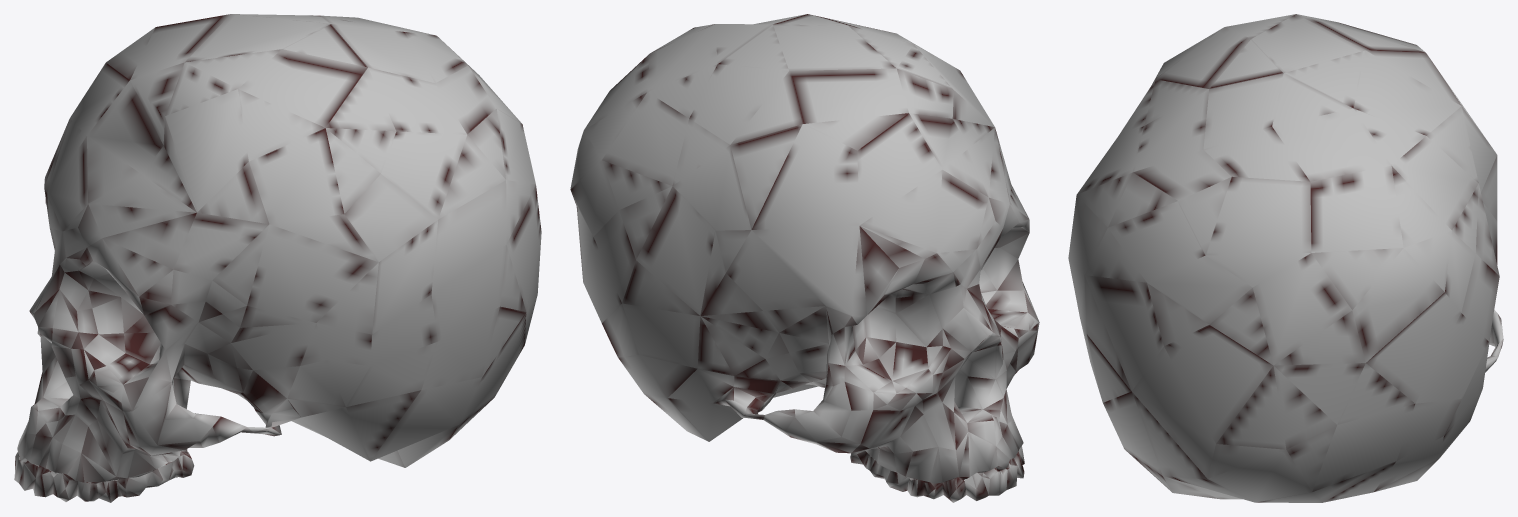
File: Skeleton_head.fbx
3 views of the same model, side by side, from view 1: azimuth 30°, elevation 25°; view 2: azimuth 150°, elevation 25°; view 3: azimuth 270°, elevation 25° (orthographic). The views are drawn at different scales.
Parts seen in each view (by area): view 1: Skeleton_head; view 2: Skeleton_head; view 3: Skeleton_head.
Boxes of the visible parts, x1,y1,x2,y2 form: Skeleton_head: (14, 14, 541, 502); Skeleton_head: (570, 14, 1039, 502); Skeleton_head: (1068, 14, 1503, 502).
Bounding box in the file's own units: 0.2022 × 0.173 × 0.1626.
